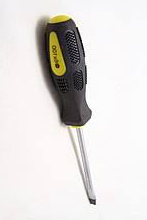Screwdriver: (38, 12, 109, 211)
